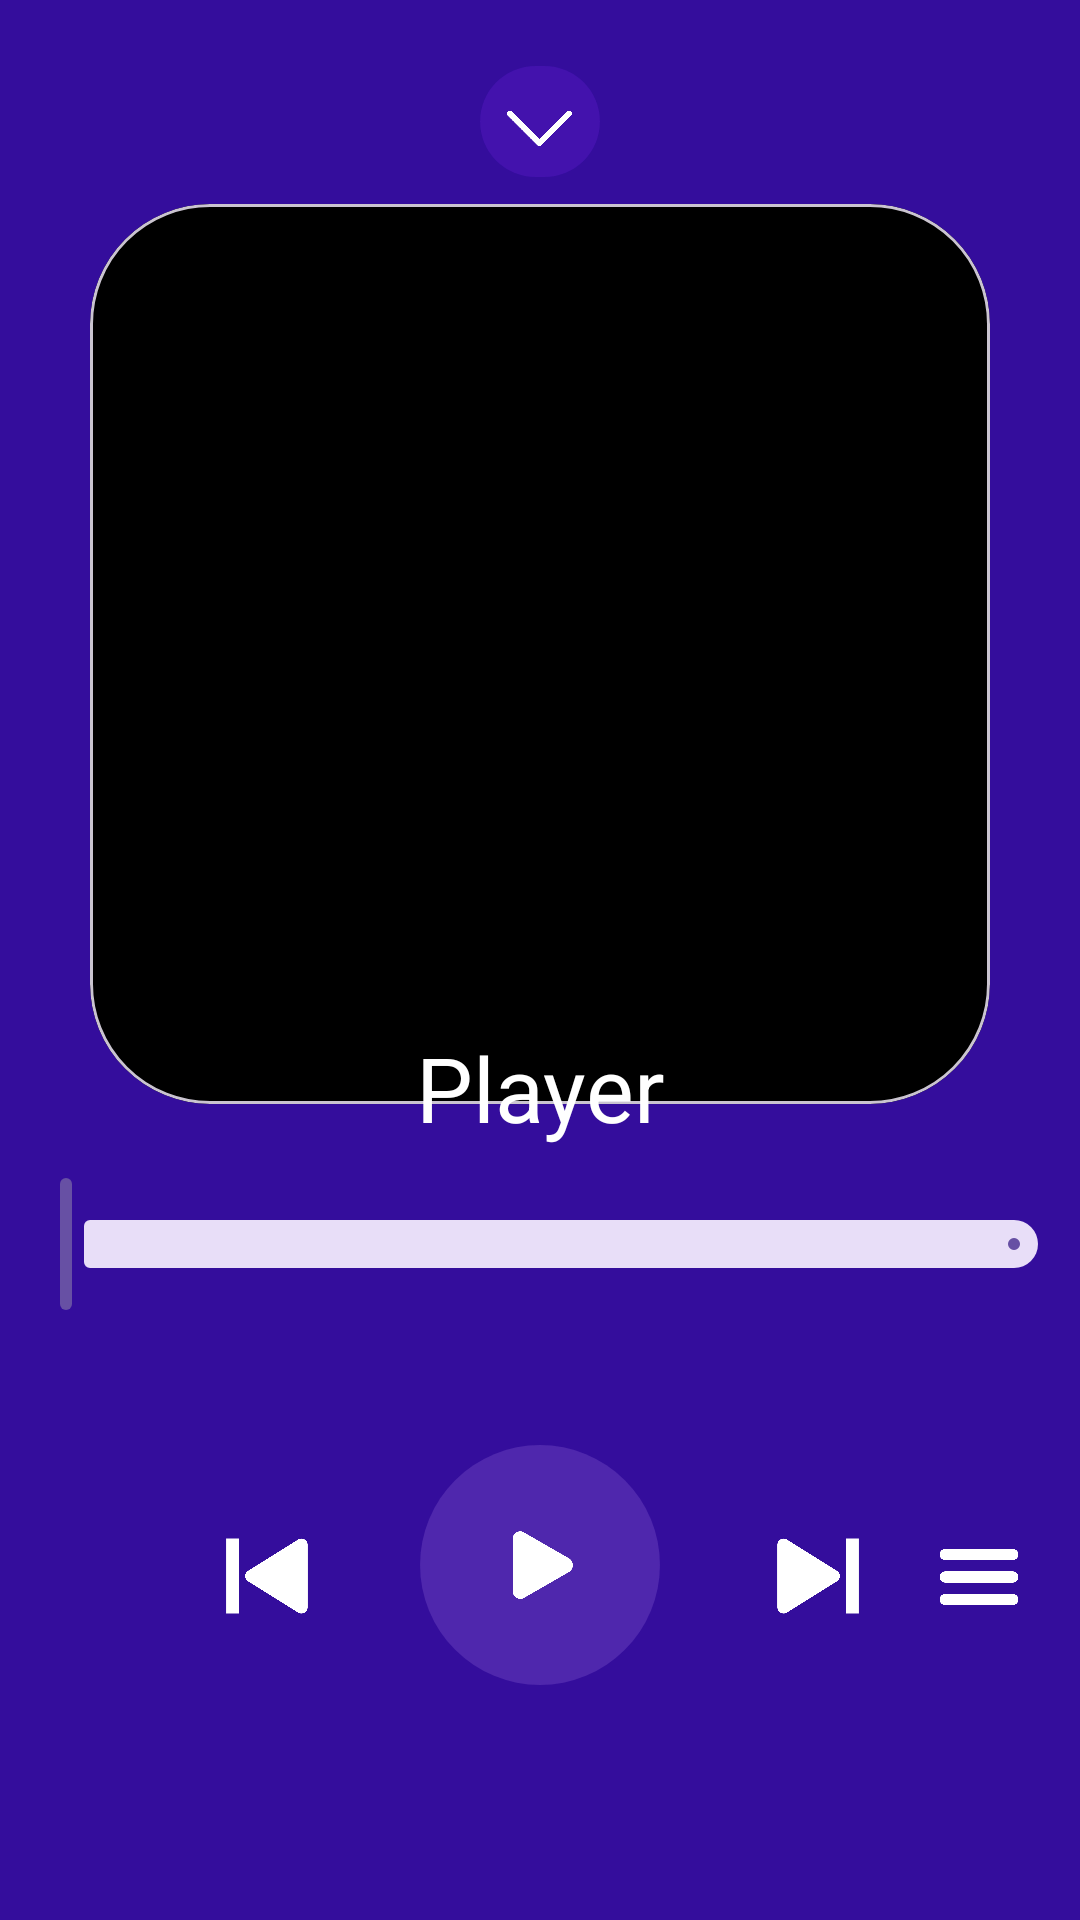

Icons on this 1080×1920 Android screen, each with its box as (x1,y1,x2,y2):
arrow down: (480,66,600,177)
list: (940,1549,1018,1605)
next: (777,1538,859,1614)
play: (421,1445,659,1685)
previous: (226,1538,308,1614)
